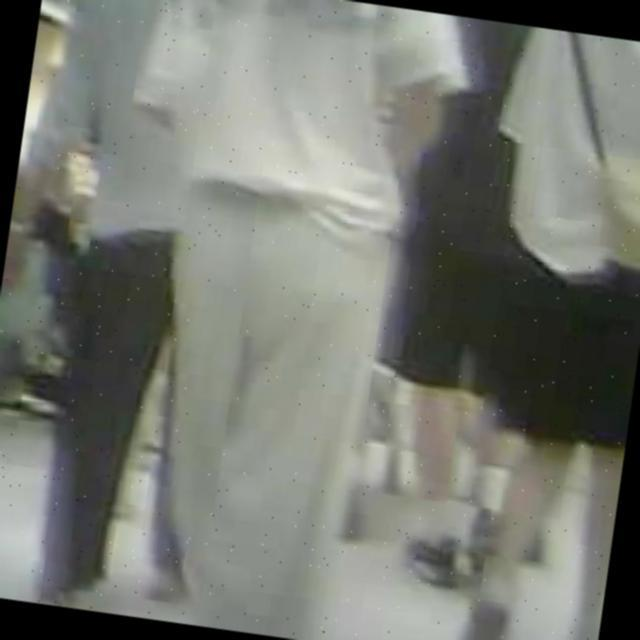person: (80, 0, 453, 640), (0, 0, 262, 622), (335, 10, 594, 592), (438, 26, 640, 640)
